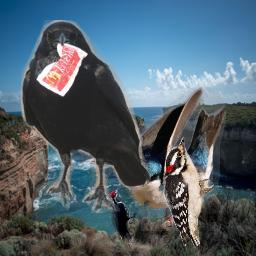Crow: (21, 20, 151, 213)
Swallow: (119, 87, 227, 231)
Woodpecker: (163, 137, 214, 246), (110, 187, 137, 246)
